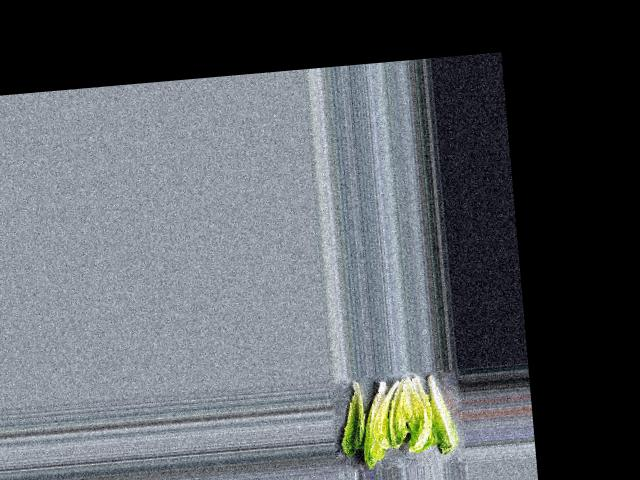lettuce: (338, 378, 369, 456)
